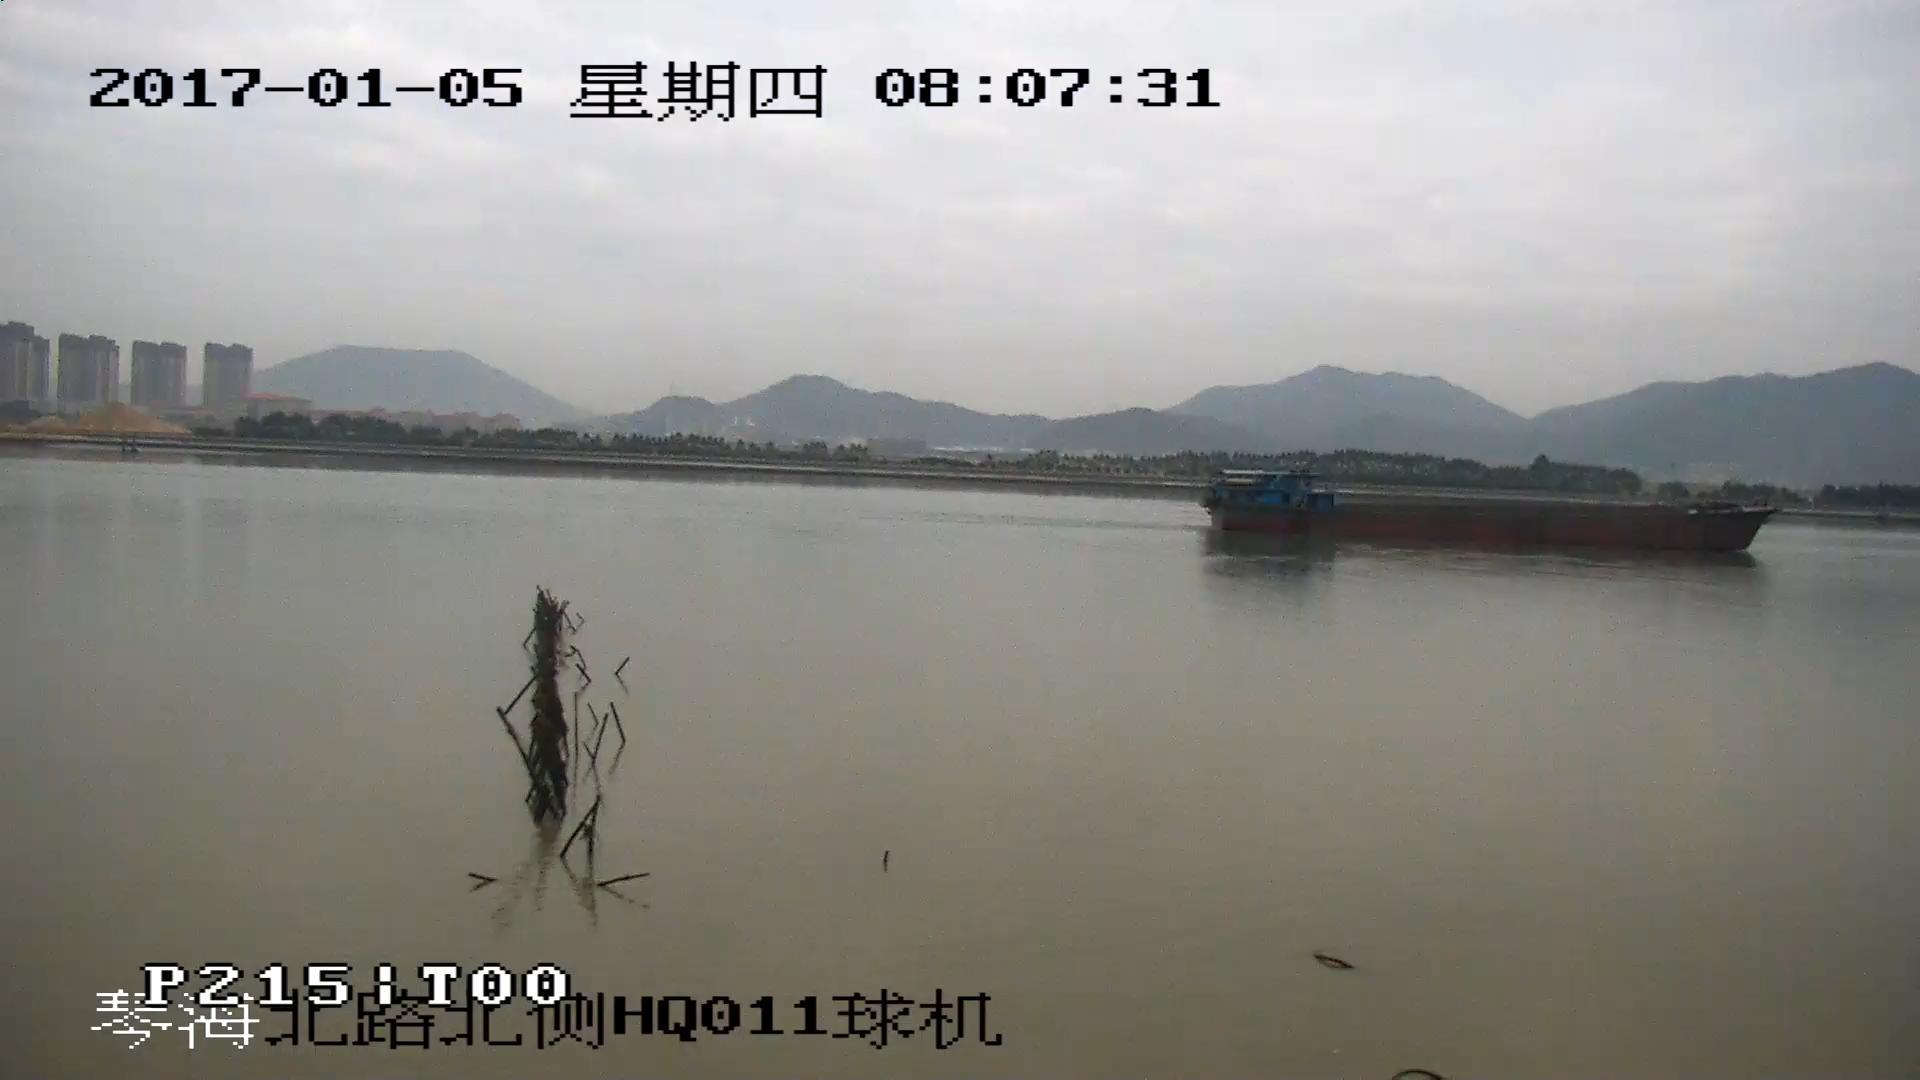Ship: (1195, 468, 1776, 555)
